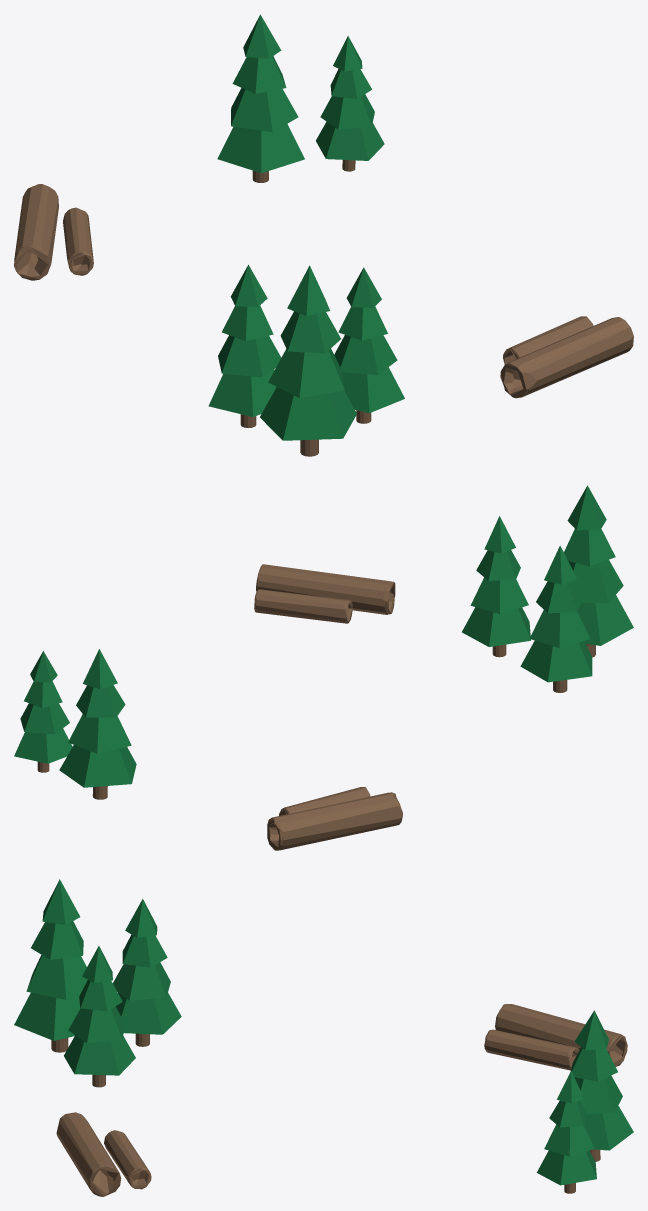
File: Trees.gltf
The picture shows the model from 3 angles, top to bottom: view 1: azimuth 30°, elevation 25°; view 2: azimuth 150°, elevation 25°; view 3: azimuth 270°, elevation 25°; orthographic projection. The views are drawn at different scales.
Visible parts, largest first — view 1: Leaves.002, Leaves.001, Leaves.005, Leaves.004, Trunks.001, Leaves.003, Trunks, Truns, Truns.001; view 2: Leaves.001, Leaves.002, Leaves.005, Leaves.004, Trunks, Leaves.003, Trunks.001, Truns.001, Truns; view 3: Leaves.002, Leaves.005, Leaves.004, Leaves.001, Leaves.003, Trunks.001, Trunks, Truns, Truns.001.
Part boxes in pixels (box(x1,y1,x2,y2)): Leaves.002: box(260, 265, 356, 456); Leaves.001: box(217, 14, 304, 182); Leaves.005: box(208, 264, 281, 427); Leaves.004: box(334, 267, 404, 423); Trunks.001: box(500, 317, 633, 398); Leaves.003: box(316, 36, 384, 171); Trunks: box(14, 184, 58, 280); Truns: box(63, 207, 93, 275); Truns.001: box(503, 316, 593, 364); Leaves.001: box(59, 649, 136, 799); Leaves.002: box(564, 485, 633, 657); Leaves.005: box(520, 545, 592, 692); Leaves.004: box(462, 516, 530, 657); Trunks: box(267, 792, 402, 850); Leaves.003: box(14, 651, 72, 772); Trunks.001: box(256, 564, 395, 614); Truns.001: box(254, 589, 352, 623); Truns: box(279, 787, 370, 815); Leaves.002: box(14, 879, 87, 1052); Leaves.005: box(113, 899, 181, 1046); Leaves.004: box(64, 946, 135, 1087); Leaves.001: box(571, 1010, 633, 1161); Leaves.003: box(536, 1071, 596, 1193); Trunks.001: box(56, 1112, 121, 1196); Trunks: box(495, 1004, 627, 1066); Truns: box(484, 1029, 579, 1070); Truns.001: box(104, 1130, 151, 1189).
Bounding box in the file's own units: 15.13 × 6.78 × 22.15.
